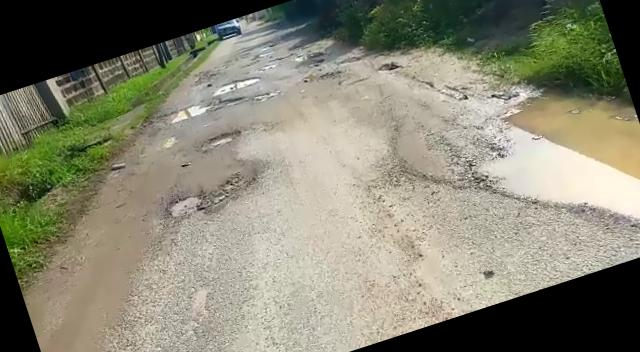pothole: (457, 66, 640, 284), (163, 177, 246, 221), (155, 98, 214, 129), (211, 72, 262, 97), (202, 128, 240, 152), (374, 59, 402, 78)
